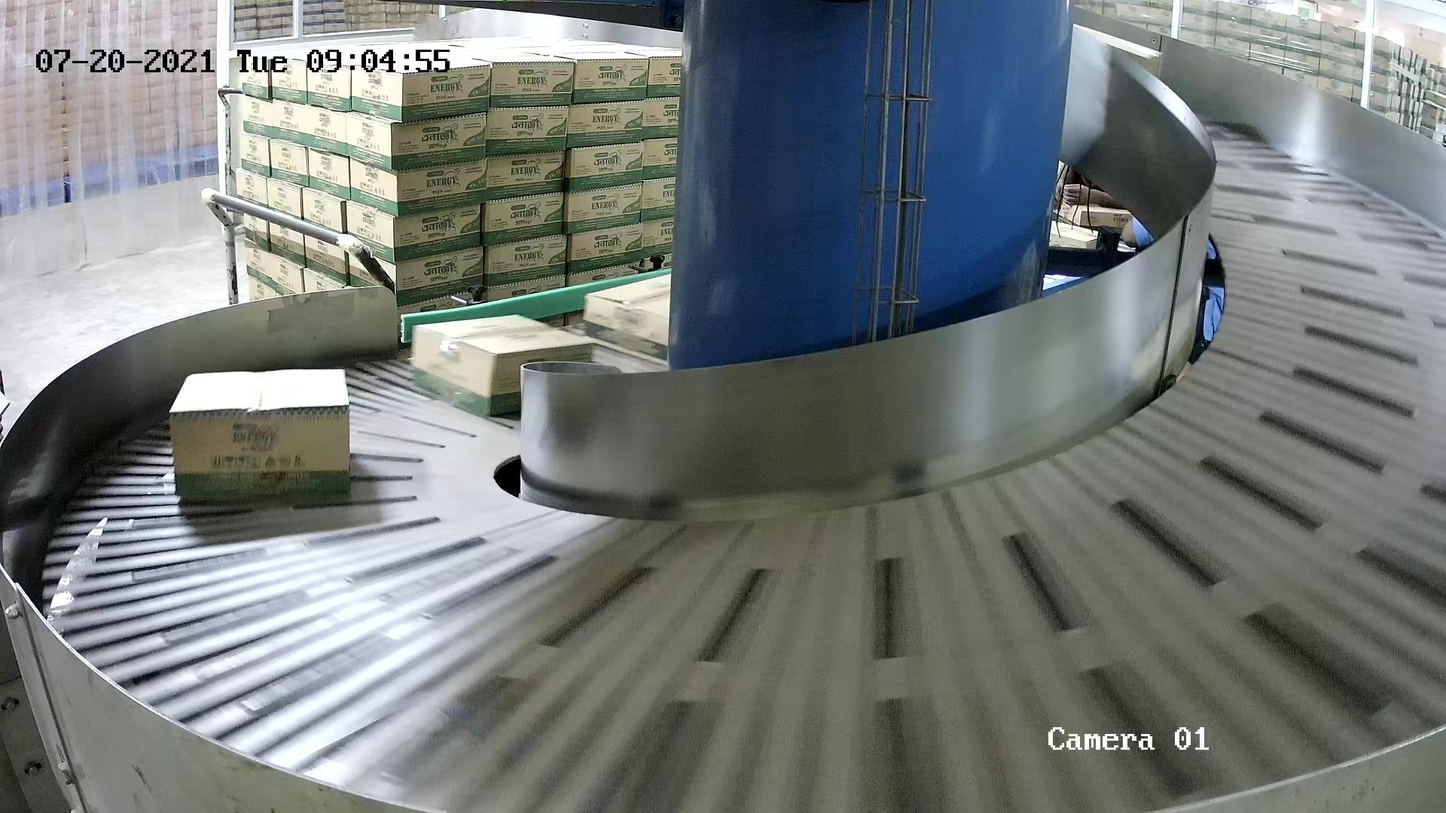Box: (168, 368, 353, 505), (409, 313, 595, 419), (581, 273, 671, 366)
